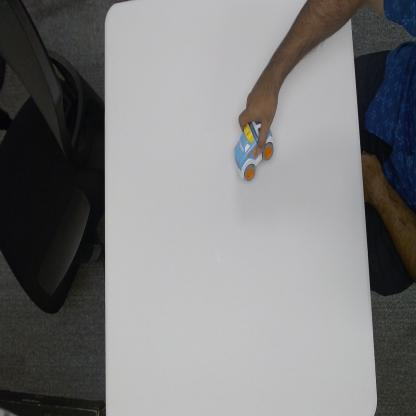Arm: (267, 0, 350, 88)
Car: (234, 119, 274, 184)
Hand: (238, 68, 277, 155)
